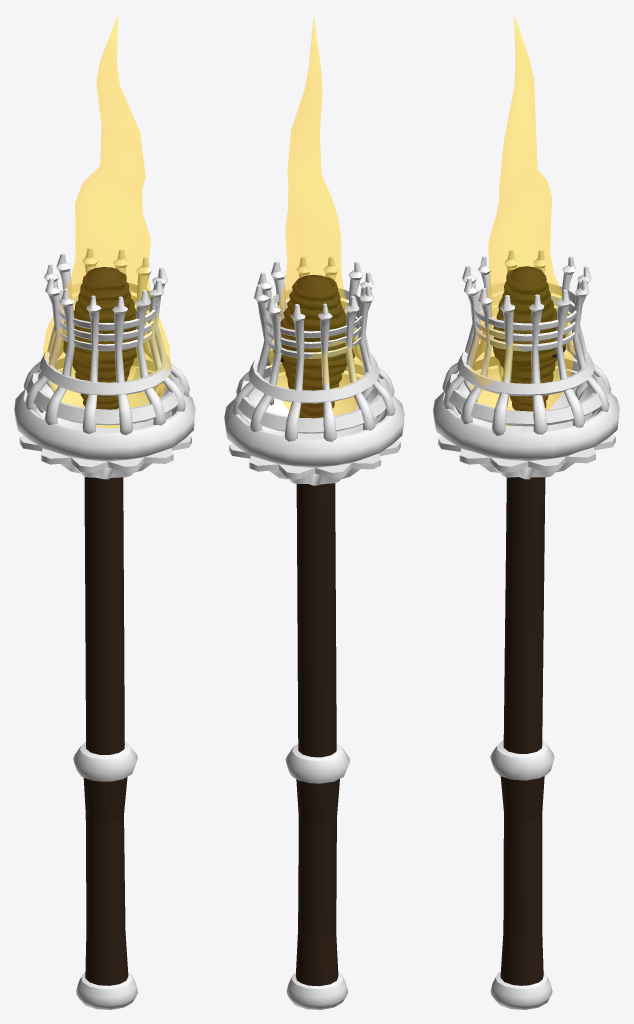
Rendered from tran.glb.
3 views of the same model, side by side, from view 1: azimuth 30°, elevation 25°; view 2: azimuth 150°, elevation 25°; view 3: azimuth 270°, elevation 25° (orthographic).
Parts seen in each view (by area): view 1: torche_metallic_clean, torche_wood_leather, torche_fire_flame; view 2: torche_metallic_clean, torche_wood_leather, torche_fire_flame; view 3: torche_metallic_clean, torche_wood_leather, torche_fire_flame.
Part boxes in pixels (bbox=[...]): torche_metallic_clean: bbox=[14, 247, 195, 1009]; torche_wood_leather: bbox=[63, 267, 136, 985]; torche_fire_flame: bbox=[43, 15, 170, 427]; torche_metallic_clean: bbox=[224, 256, 404, 1009]; torche_wood_leather: bbox=[273, 274, 355, 986]; torche_fire_flame: bbox=[269, 17, 363, 417]; torche_metallic_clean: bbox=[433, 249, 619, 1009]; torche_wood_leather: bbox=[492, 266, 565, 985]; torche_fire_flame: bbox=[470, 16, 574, 426].
Size of the model in its own units: 1.99 by 12.06 by 2.06.
